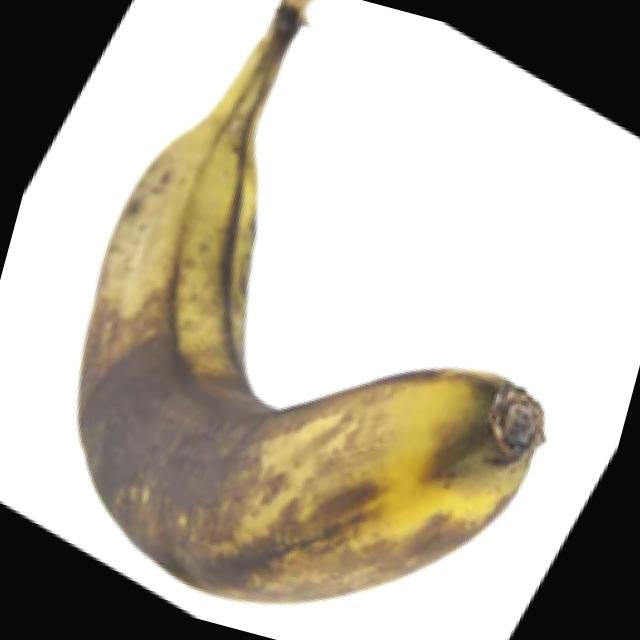Rotten_Banana: (0, 173, 626, 640)
